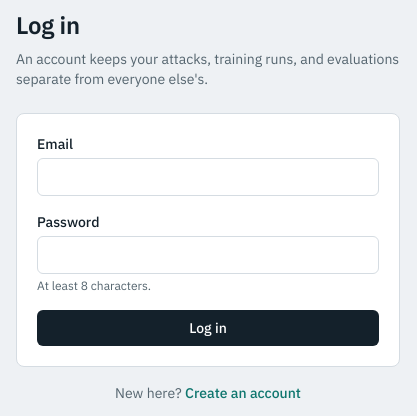
Test case: Login › shows a field error next to the field it belongs to
The image size is (417, 416).
Step 1. Type "ada@example.com" into the field labelled "Email" → (208, 177), box [37,158,379,196]
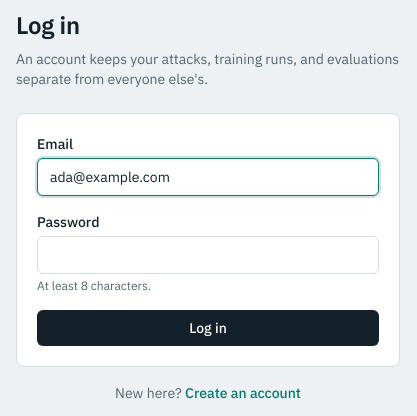
Step 2. Type "short" into the password field labelled "Password" → (208, 255), box [37,236,379,274]
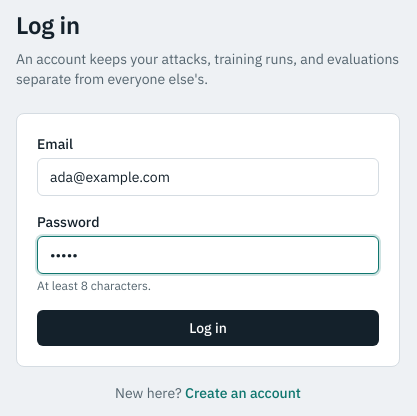
Step 3. Click the button "Log in" → (208, 328), box [37,310,379,346]
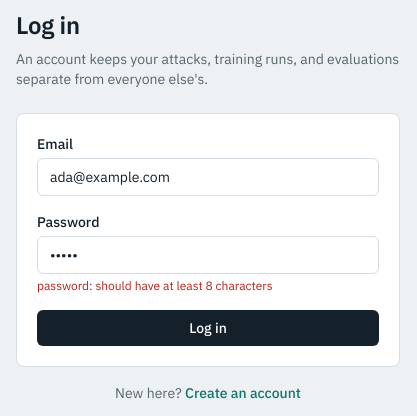
Check: the text "password: should have at least 8 characters" is shown, box [37,278,273,293]
